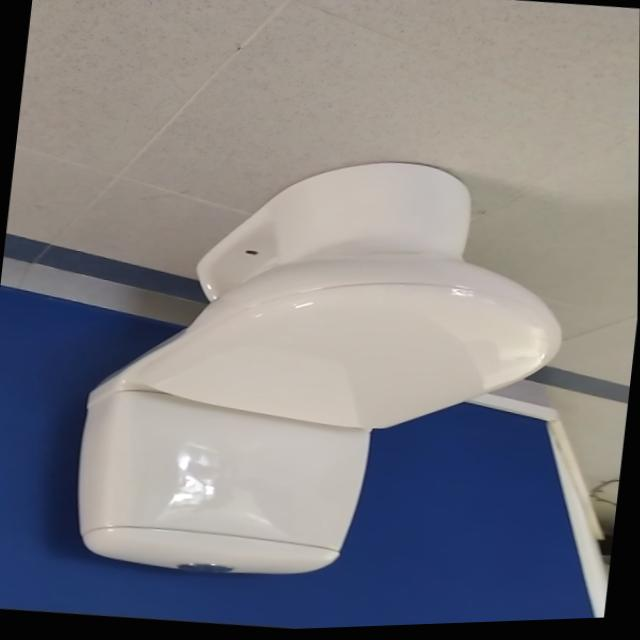toilet: (66, 130, 581, 613)
